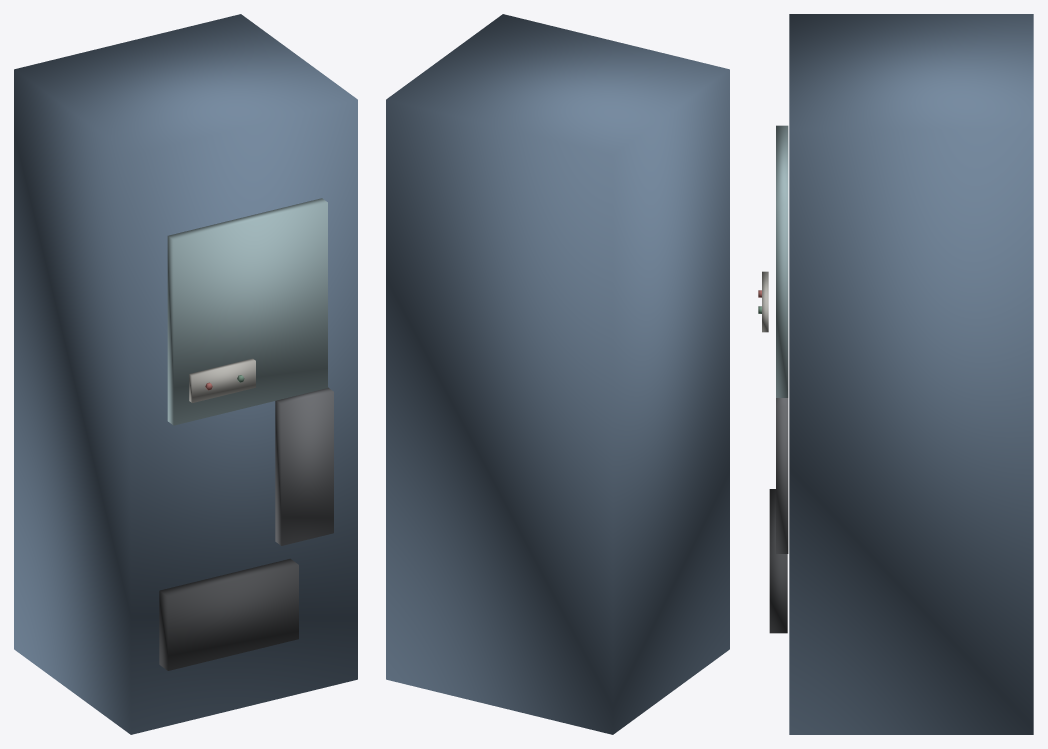
The model's file is drink_vending_machine__compact.glb.
3 views of the same model, side by side, from view 1: azimuth 30°, elevation 25°; view 2: azimuth 150°, elevation 25°; view 3: azimuth 270°, elevation 25° (orthographic). The views are drawn at different scales.
Visible parts, largest first — view 1: world; view 2: world; view 3: world.
Part boxes in pixels (x1=…): world: x1=14, y1=14, x2=357, y2=734; world: x1=386, y1=14, x2=729, y2=734; world: x1=758, y1=14, x2=1033, y2=734.
Size of the model in its own units: 0.6552 by 1.6 by 0.6588.
